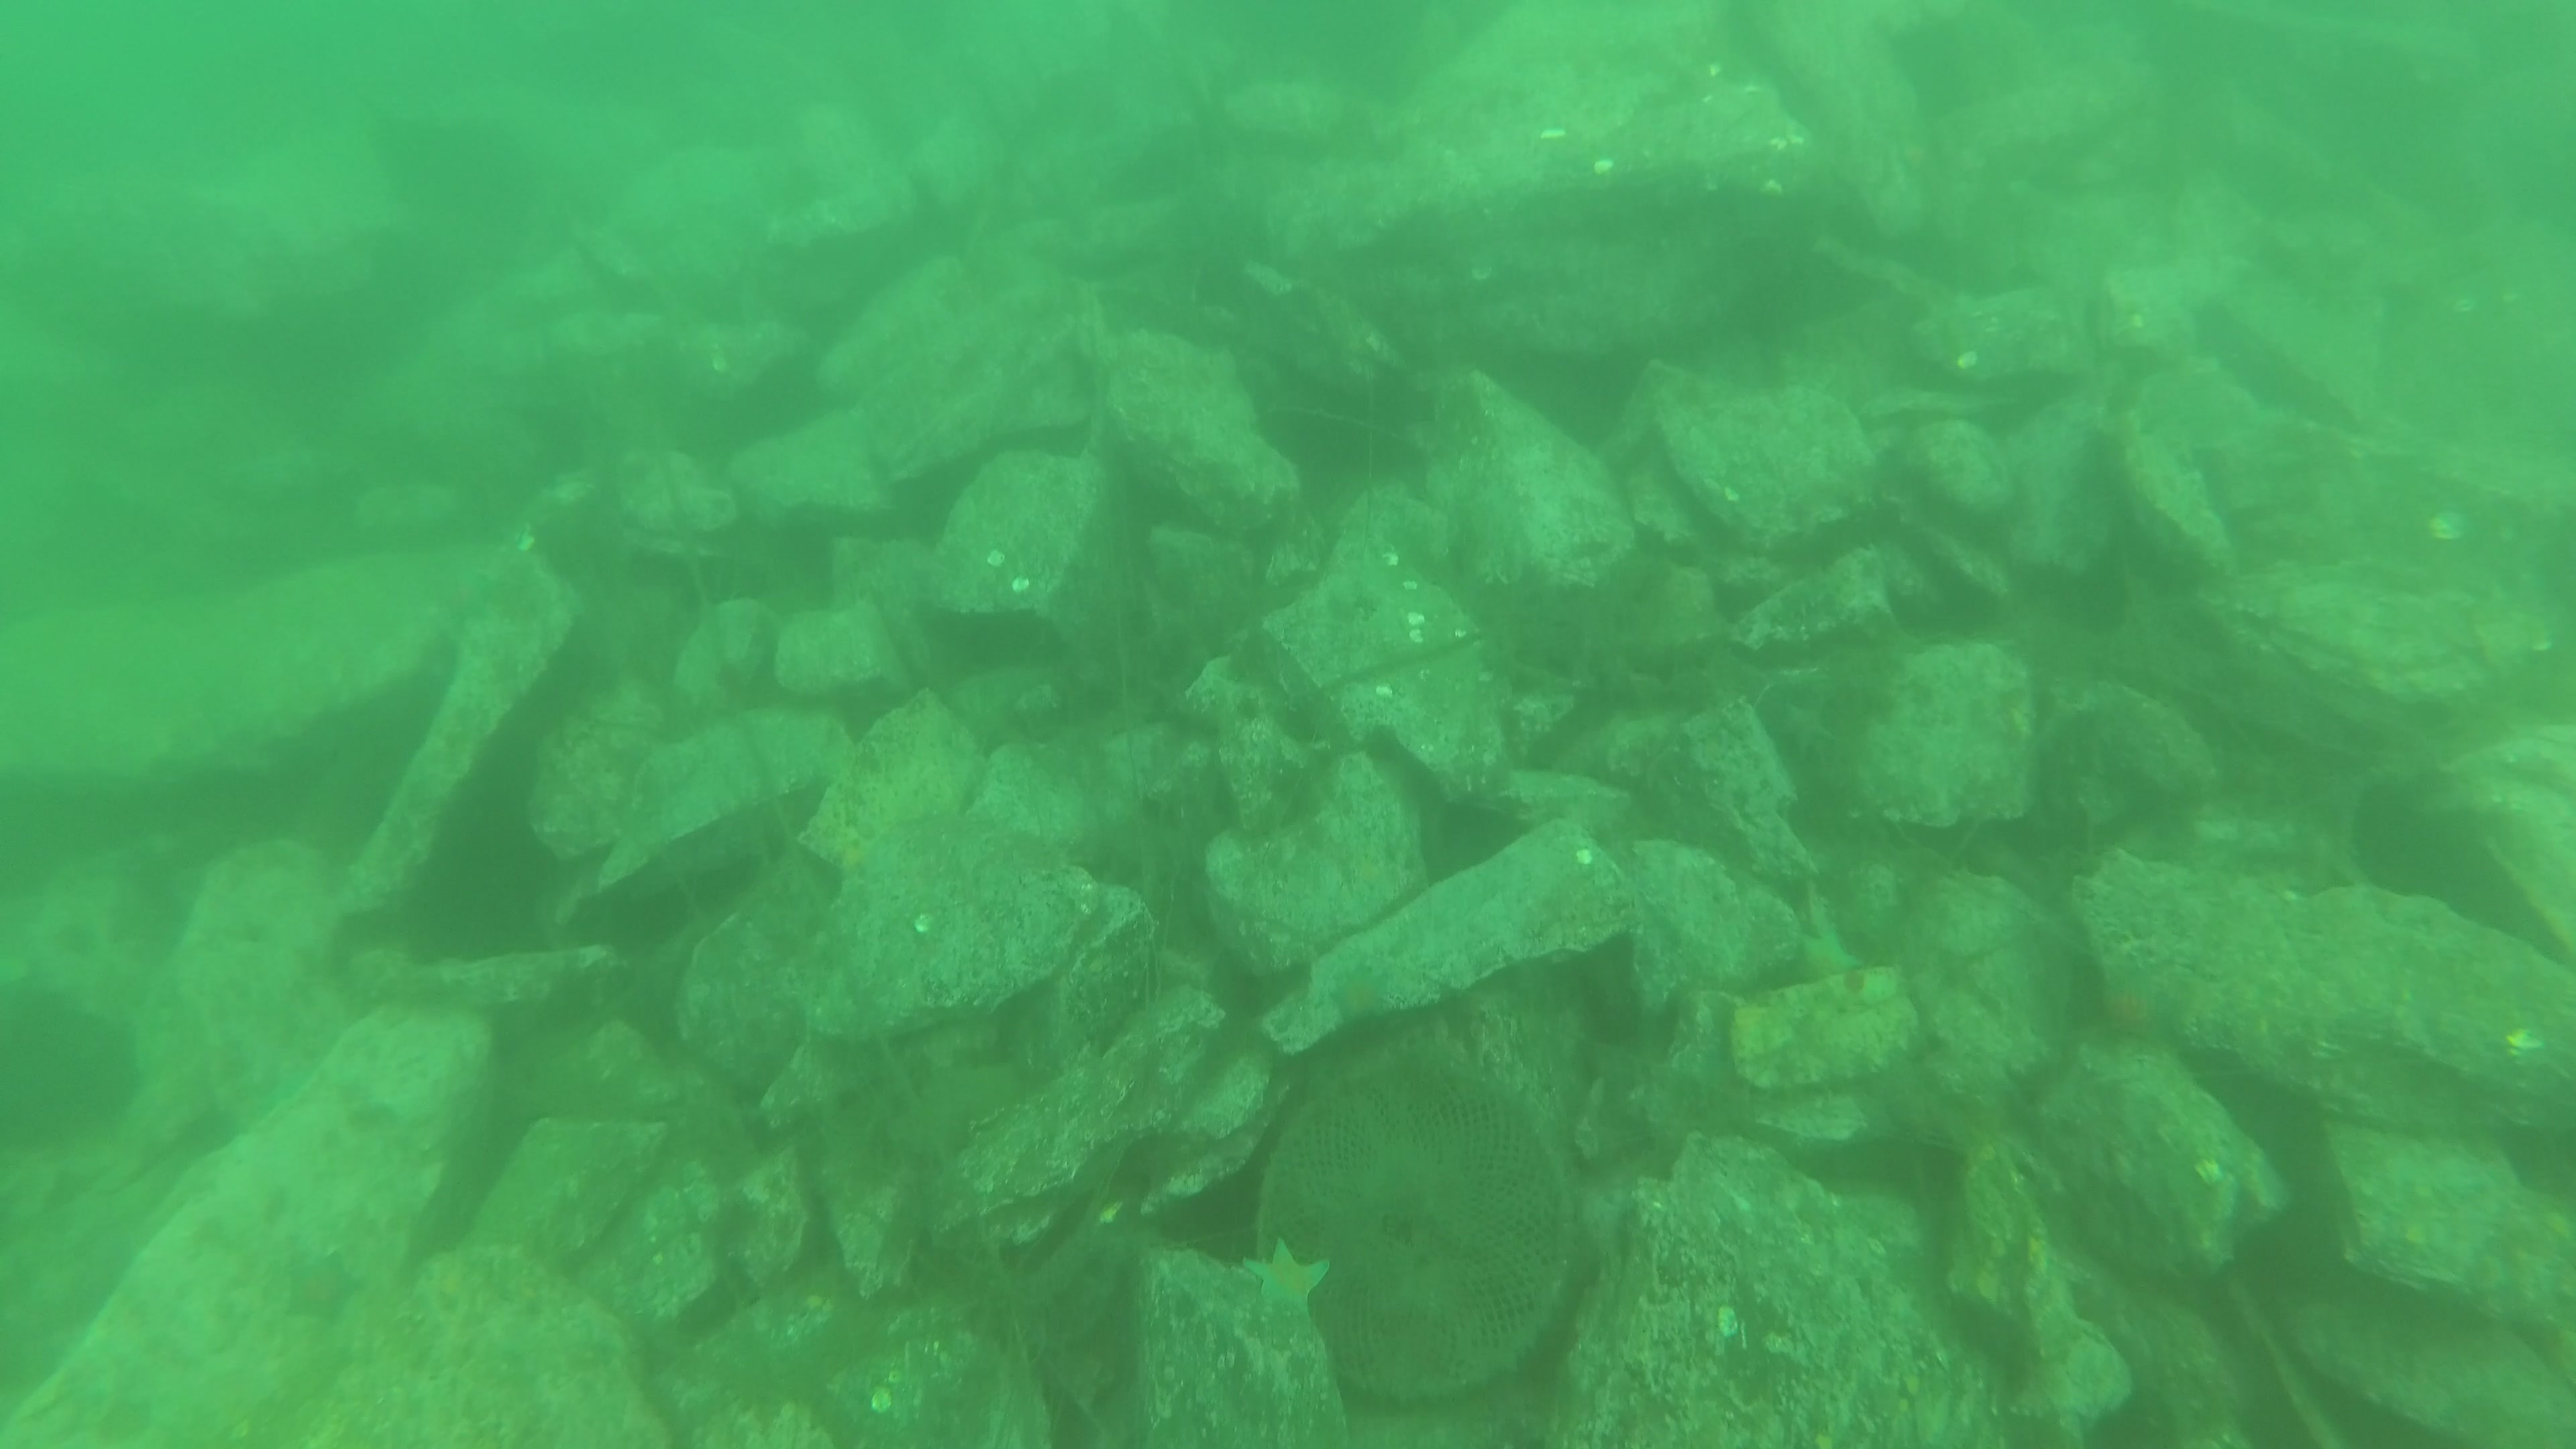holothurian: (1773, 571, 1844, 625)
starfish: (2091, 966, 2187, 1046), (1242, 1242, 1332, 1318), (283, 1253, 364, 1323), (1771, 697, 1836, 761), (1792, 932, 1859, 989), (1329, 966, 1391, 1024)
